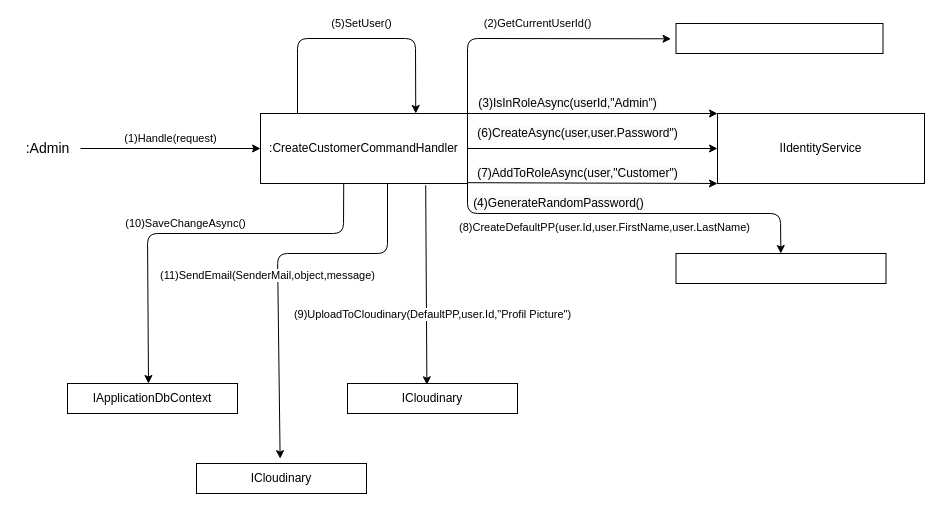
Some shapes in this 942 by 511 pixel diagram are drawn without their labels. The centre of each missing label's shape, as x and y in pixels:
"Helper" belongs at [780,268].
"ICurrentUserService" belongs at [779,38].
